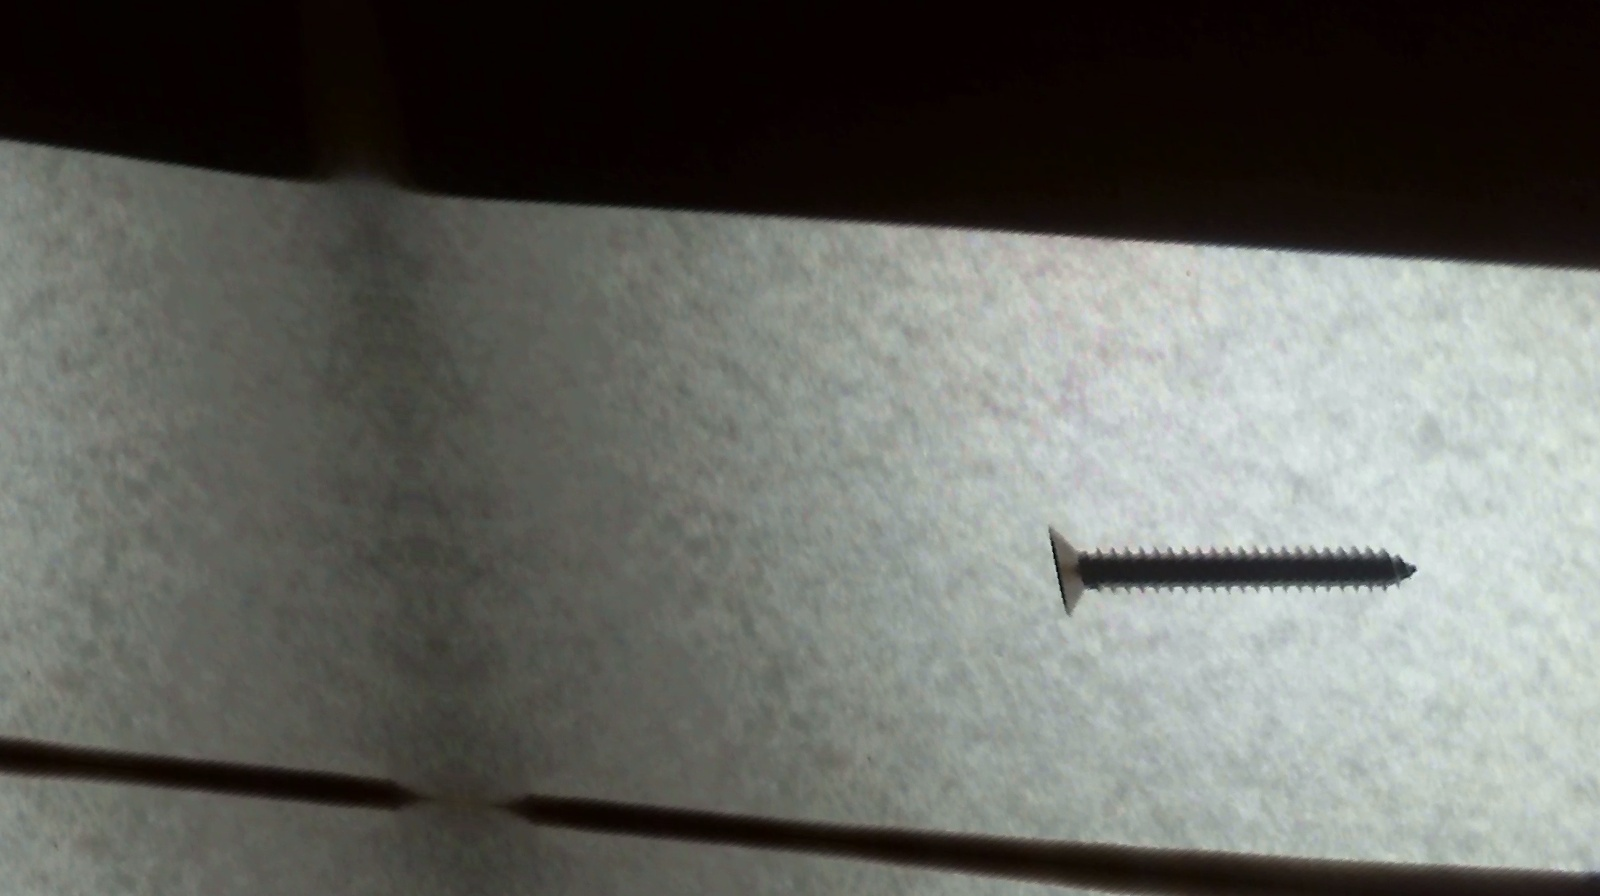S002: (1020, 483, 1457, 670)
